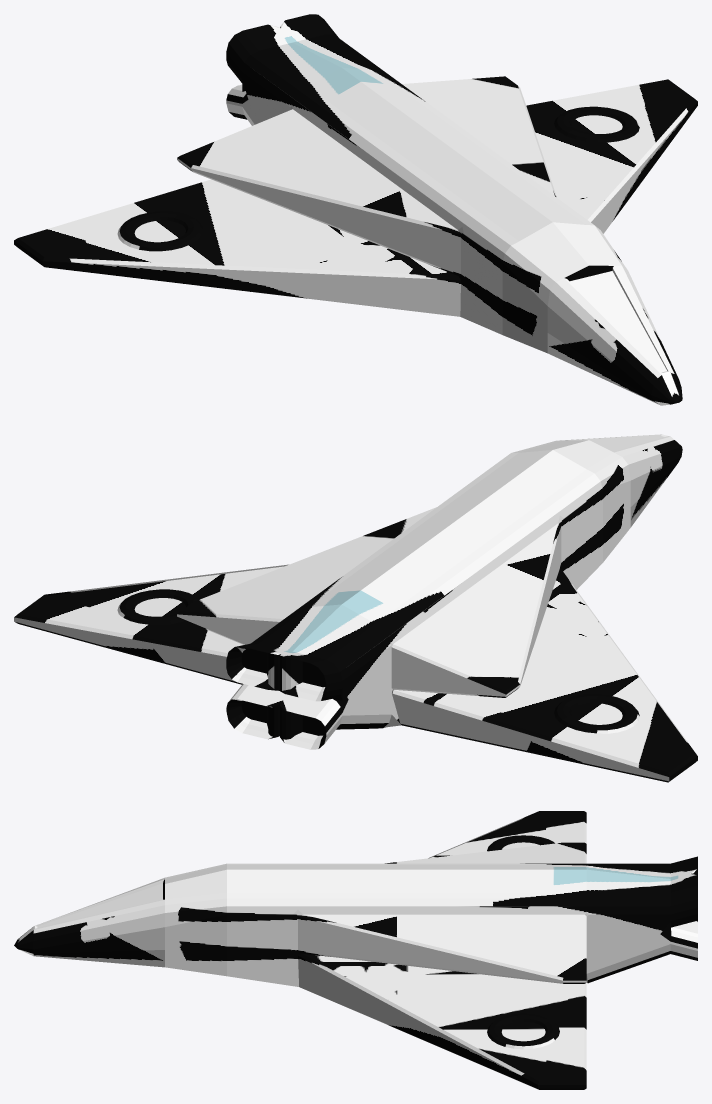
Rendered from shuttle.obj.
The picture shows the model from 3 angles, top to bottom: view 1: azimuth 30°, elevation 25°; view 2: azimuth 150°, elevation 25°; view 3: azimuth 270°, elevation 25°; orthographic projection. The views are drawn at different scales.
Visible parts, largest first — view 1: Cube_Cube.001; view 2: Cube_Cube.001; view 3: Cube_Cube.001.
Part boxes in pixels (x1,y1,x2,y2): Cube_Cube.001: [14, 14, 697, 405]; Cube_Cube.001: [14, 434, 697, 782]; Cube_Cube.001: [14, 811, 697, 1089].
Bounding box in the file's own units: 0.9156 × 0.1547 × 0.9715.
1 material, 1 textured.
